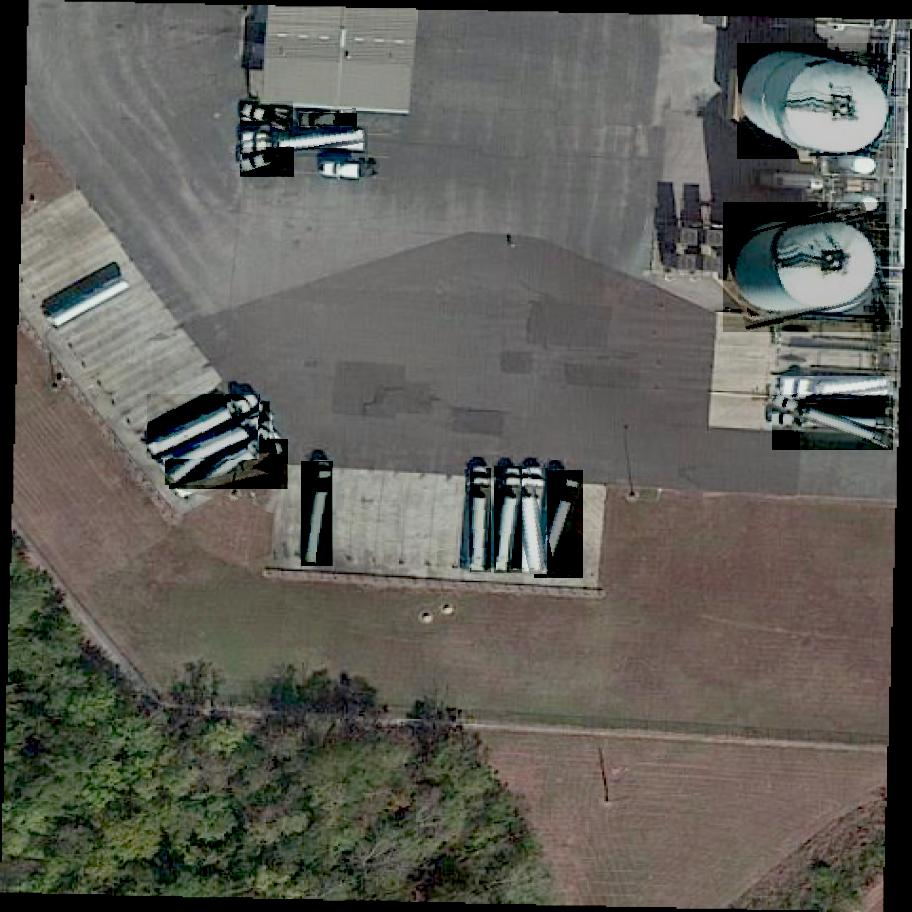large-vehicle: (166, 401, 270, 491), (147, 393, 261, 461), (772, 395, 893, 451), (170, 439, 288, 490), (534, 470, 584, 579), (240, 126, 368, 157), (514, 468, 551, 575), (301, 462, 335, 566), (780, 377, 892, 405), (494, 467, 522, 575), (470, 468, 491, 572), (240, 147, 296, 178), (241, 102, 294, 131), (299, 113, 357, 129)
storage-tank: (724, 201, 890, 333), (737, 43, 897, 160)
